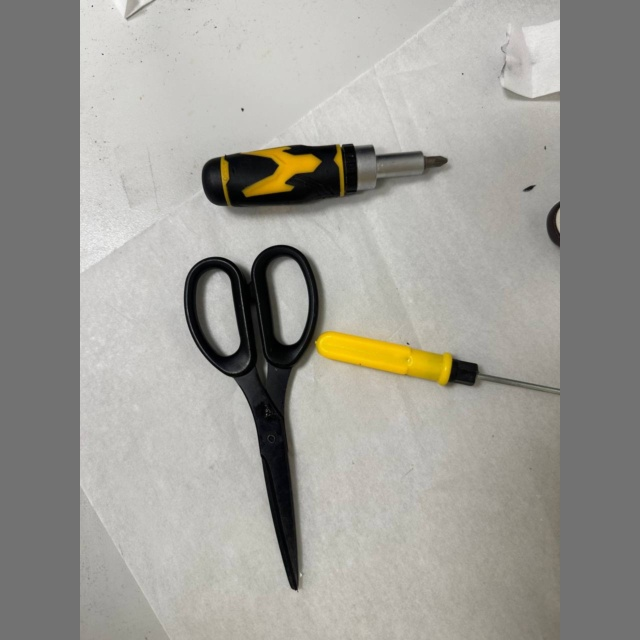scissor: (185, 245, 319, 590)
screwdriver: (316, 331, 560, 394), (202, 144, 446, 206)
